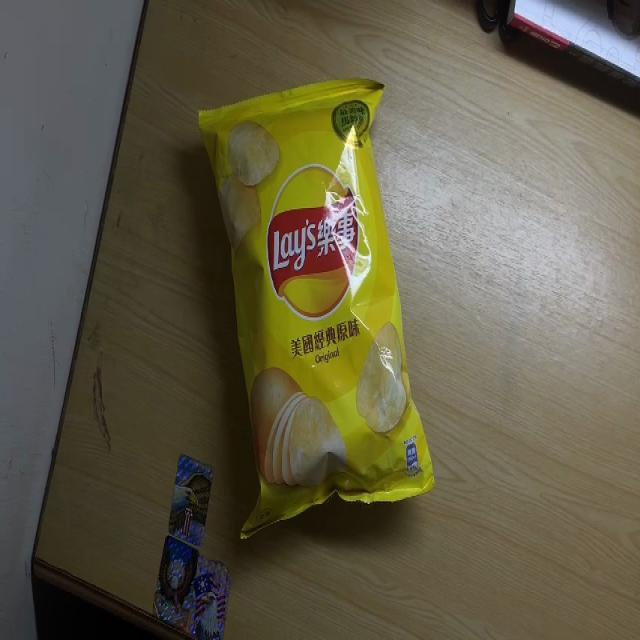Lay-s-original: (196, 76, 437, 541)
